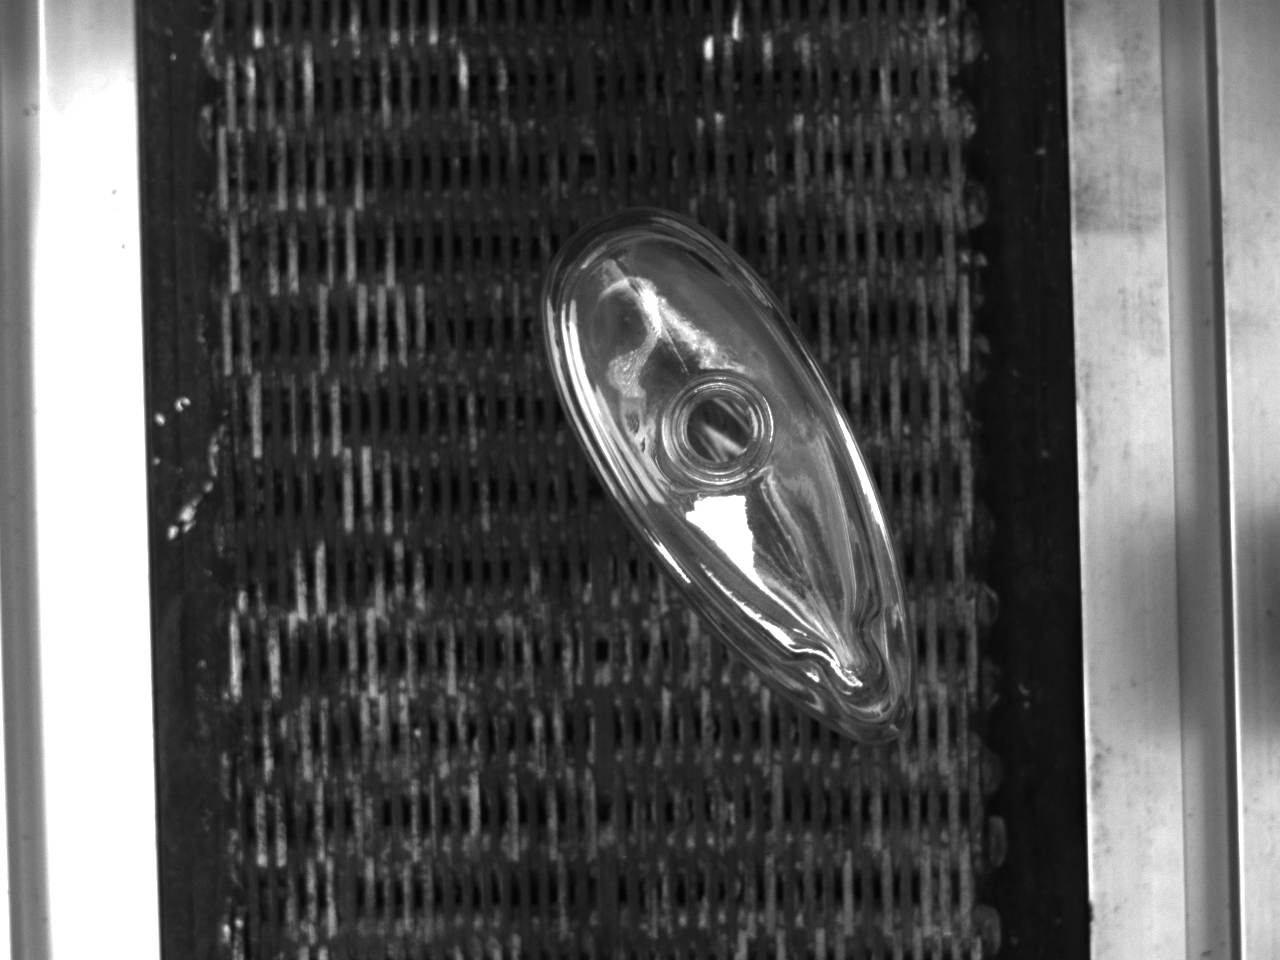bottleneck: (667, 375, 774, 484)
